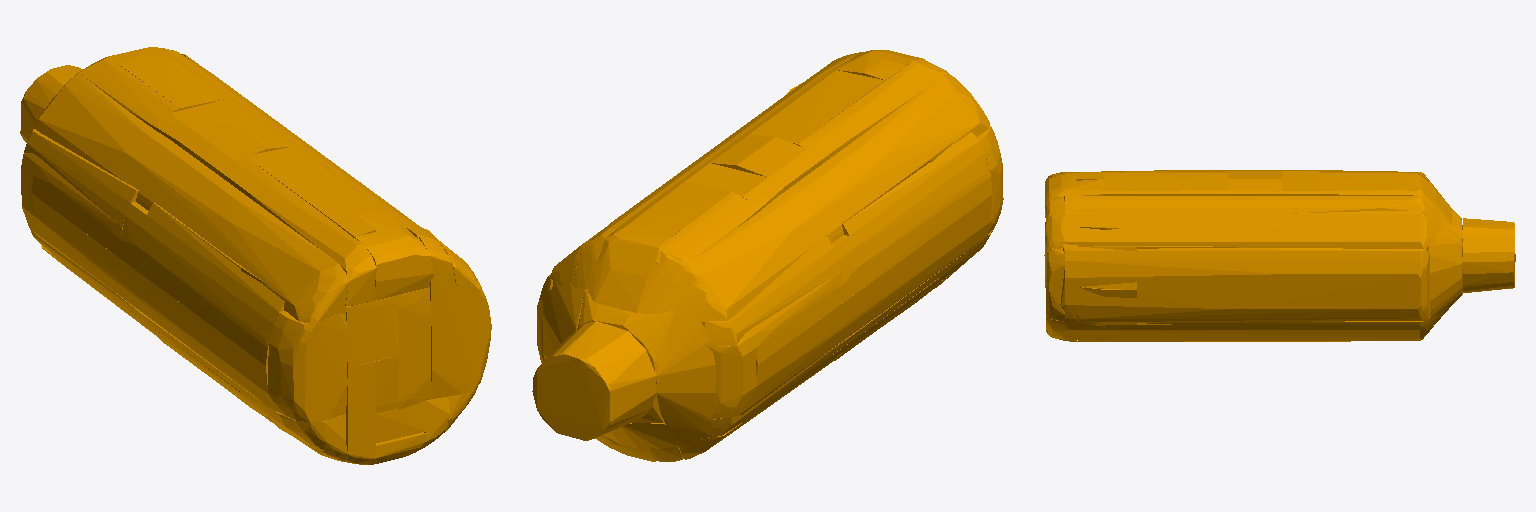
robot.urdf — bottle-85:
<?xml version="1.0" ?>
<robot name="bottle-85">
  <link name="baseLink">
    <contact>
      <lateral_friction value="1.0"/>
      <inertia_scaling value="3.0"/>
    </contact>
    <inertial>
      <origin rpy="0 0 0" xyz="0.000 0.000 0.000"/>
       <mass value=".1"/>
       <inertia ixx="1" ixy="0.0" ixz="0.0" iyy="1" iyz="0.0" izz="1"/>
    </inertial>
    <visual>
      <origin rpy="0 0 0" xyz="0 0 0"/>
      <geometry>
        <mesh filename="bottle/bottle-85_alcool.obj" scale="1.0 1.0 1.0"/>
      </geometry>
    </visual>
    <collision>
      <origin rpy="0 0 0" xyz="0 0 0"/>
      <geometry>
        <mesh filename="../collision/bottle/bottle-85_alcool.obj" scale="1.0 1.0 1.0"/>
      </geometry>
    </collision>
  </link>
</robot>
        

--- What the picture shows (computed from the rendered views, not written in the file) ---
The picture shows the robot from 3 angles, left to right: view 1: azimuth 30°, elevation 25°; view 2: azimuth 150°, elevation 25°; view 3: azimuth 270°, elevation 25°; orthographic projection.
Robot: bottle-85 — 1 links, 0 joints (none); root link baseLink; default pose: every joint at zero.
Visible links, largest first — view 1: baseLink; view 2: baseLink; view 3: baseLink.
Boxes of the visible links, <box> form: baseLink: <box>20,47,491,464</box>; baseLink: <box>532,50,1003,461</box>; baseLink: <box>1044,170,1515,341</box>.
Size in the robot's own frame: 0.0843 by 0.2317 by 0.0845 metres.
1 mesh visuals loaded from 1 distinct referenced files (1 OBJ).